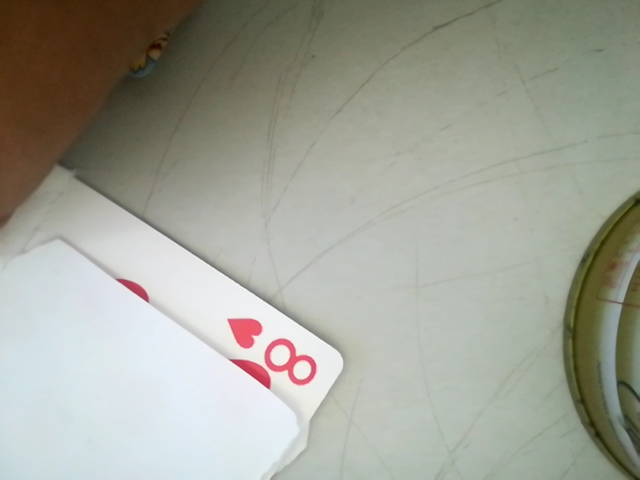hx 8: (217, 312, 331, 394)
